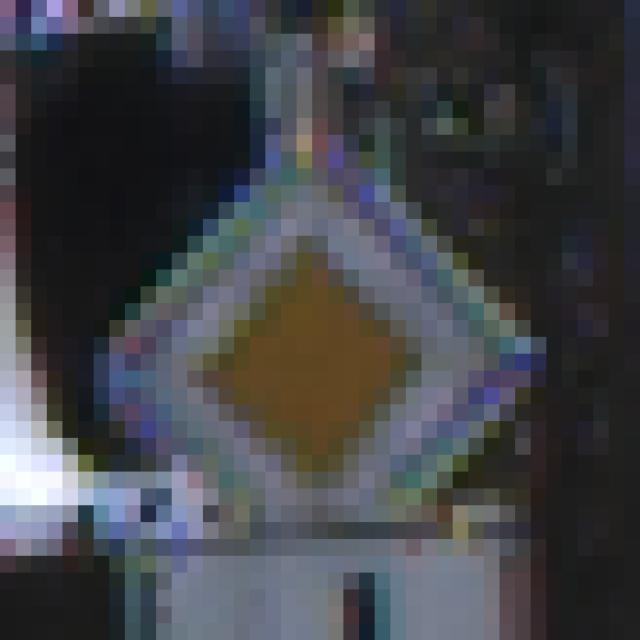Main Road: (95, 102, 547, 557)
